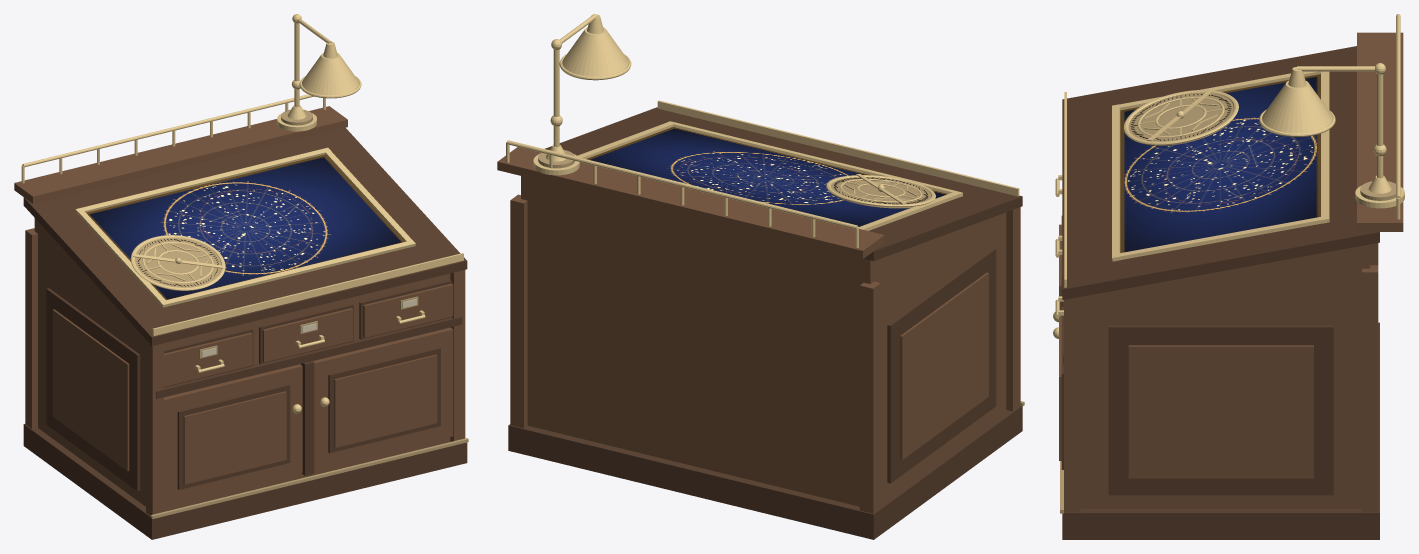
The model's file is lib_startable.glb.
The picture shows the model from 3 angles, left to right: view 1: azimuth 30°, elevation 25°; view 2: azimuth 150°, elevation 25°; view 3: azimuth 270°, elevation 25°; orthographic projection. The views are drawn at different scales.
Parts seen in each view (by area): view 1: lib_startable; view 2: lib_startable; view 3: lib_startable.
Boxes of the visible parts, x1=… form: lib_startable: x1=14, y1=14, x2=468, y2=539; lib_startable: x1=497, y1=14, x2=1024, y2=539; lib_startable: x1=1053, y1=14, x2=1404, y2=539.
Size of the model in its own units: 1.37 by 1.5 by 1.06.
8 materials, 1 textured.
